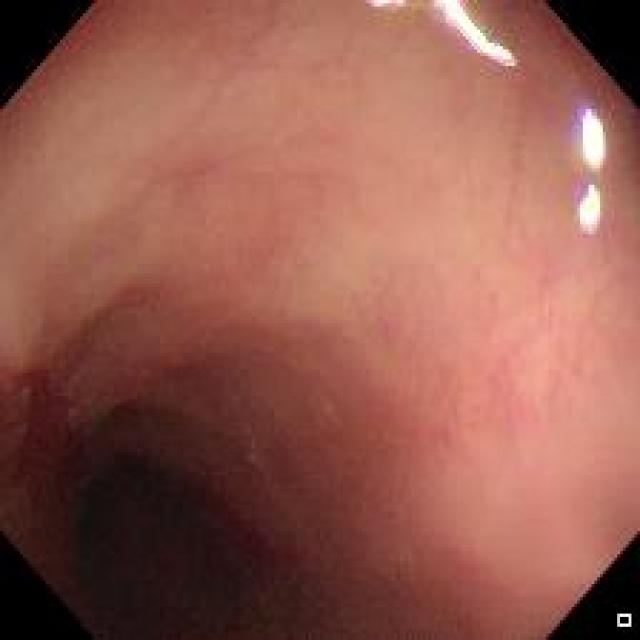color misalignment: (617, 611, 634, 628)
contrast: (16, 409, 264, 636)
specularity: (367, 1, 515, 70), (577, 101, 608, 175), (577, 181, 603, 239)
